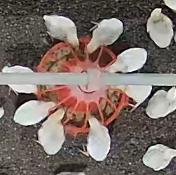chick: (79, 115, 111, 162), (85, 18, 124, 54), (36, 109, 66, 155), (43, 15, 79, 50), (13, 99, 55, 126), (2, 65, 37, 96), (147, 8, 174, 48), (146, 86, 176, 118)
rice: (36, 37, 127, 135)
